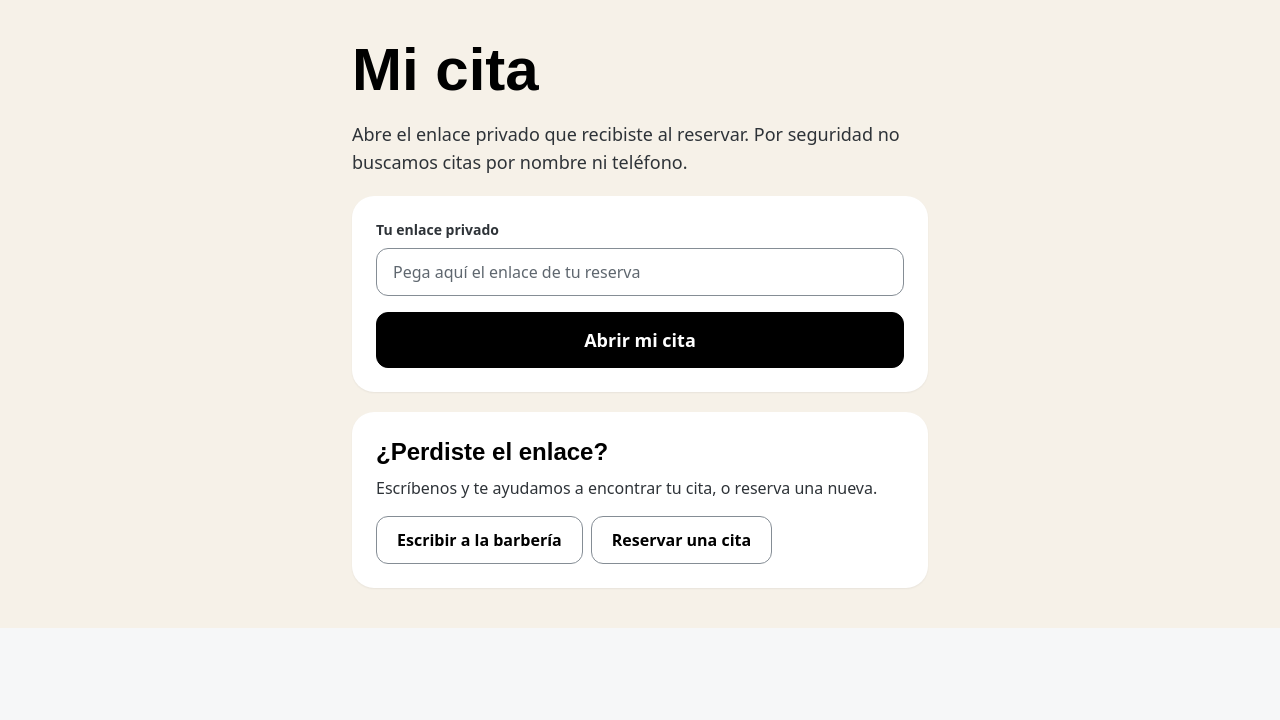
it: public appointment management › offers a short access form when navigation has no private token
Expected: the heading "Mi cita" is shown, [352, 36, 539, 103]
Click the button "Abrir mi cita" at (640, 340), box [376, 312, 904, 368]
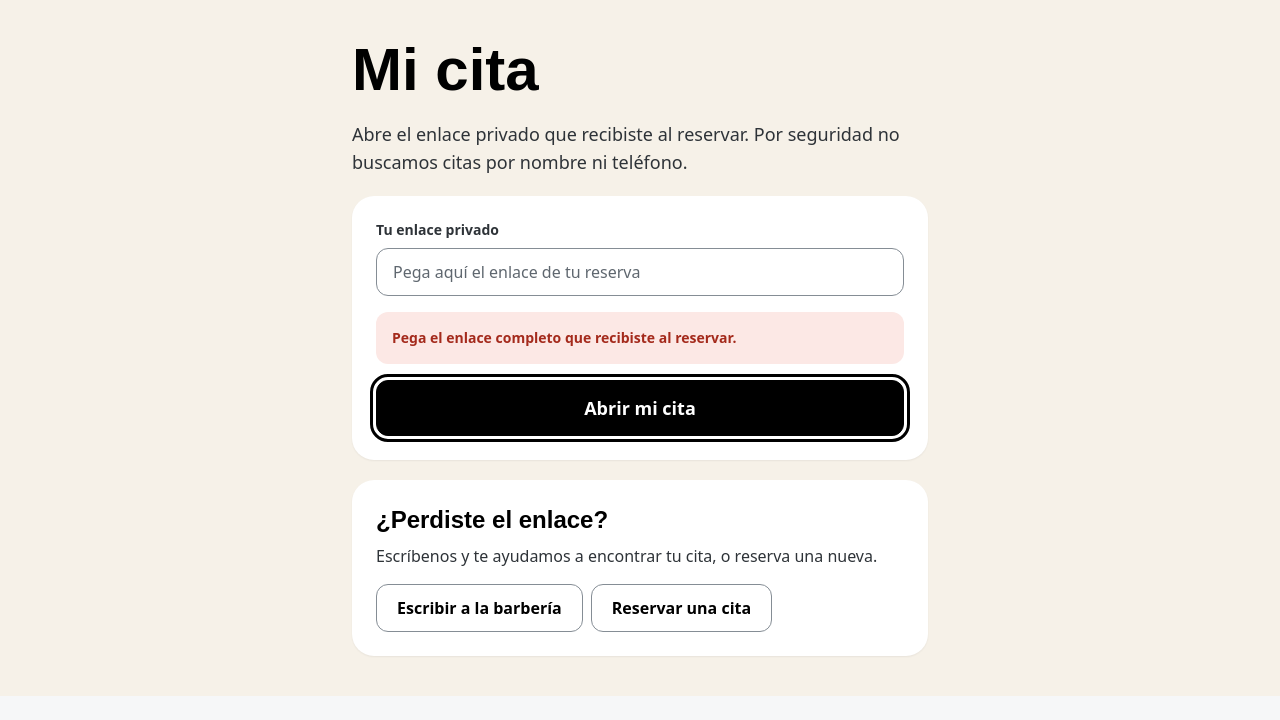
Expected: the message shows "Pega el enlace completo", [392, 328, 736, 347]
